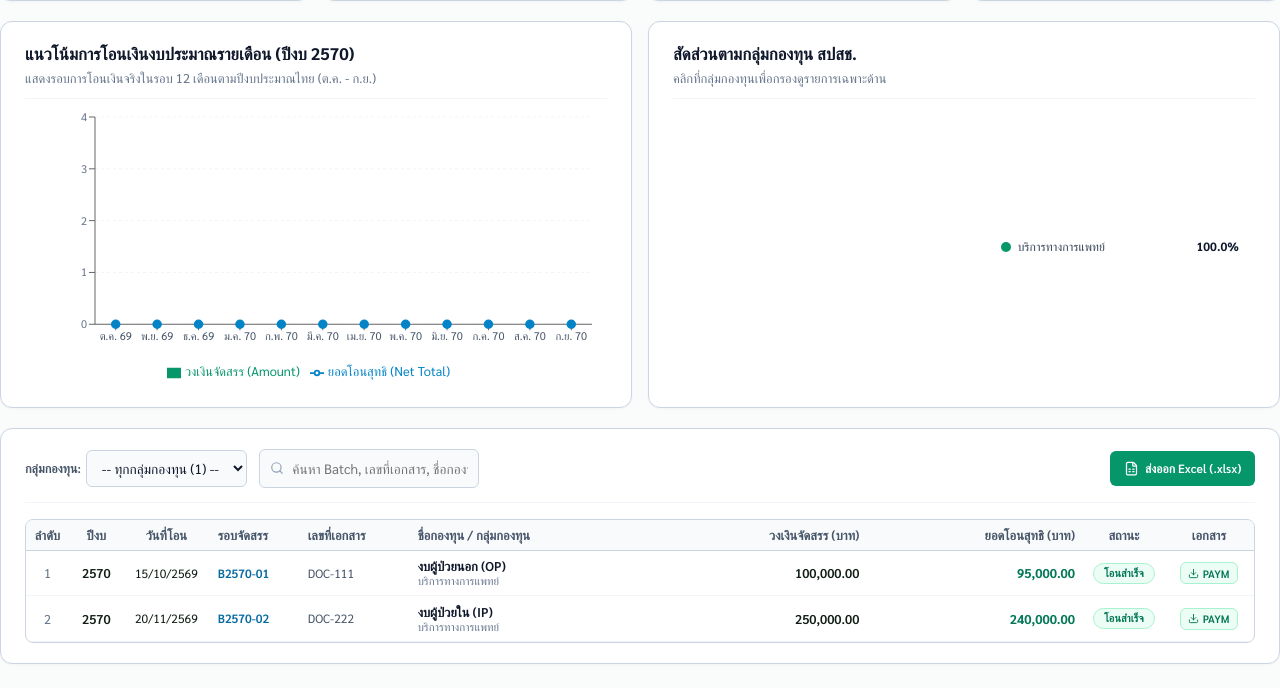
SmtBudgetTrackerClient Component › filters records using search text input
(page scrolled)
Type "DOC-111" into the field with placeholder "ค้นหา Batch, เลขที่เอกสาร, ชื่อกองทุน..." at [369, 468], box top-left (259, 449), bottom-right (479, 488)
(page scrolled)
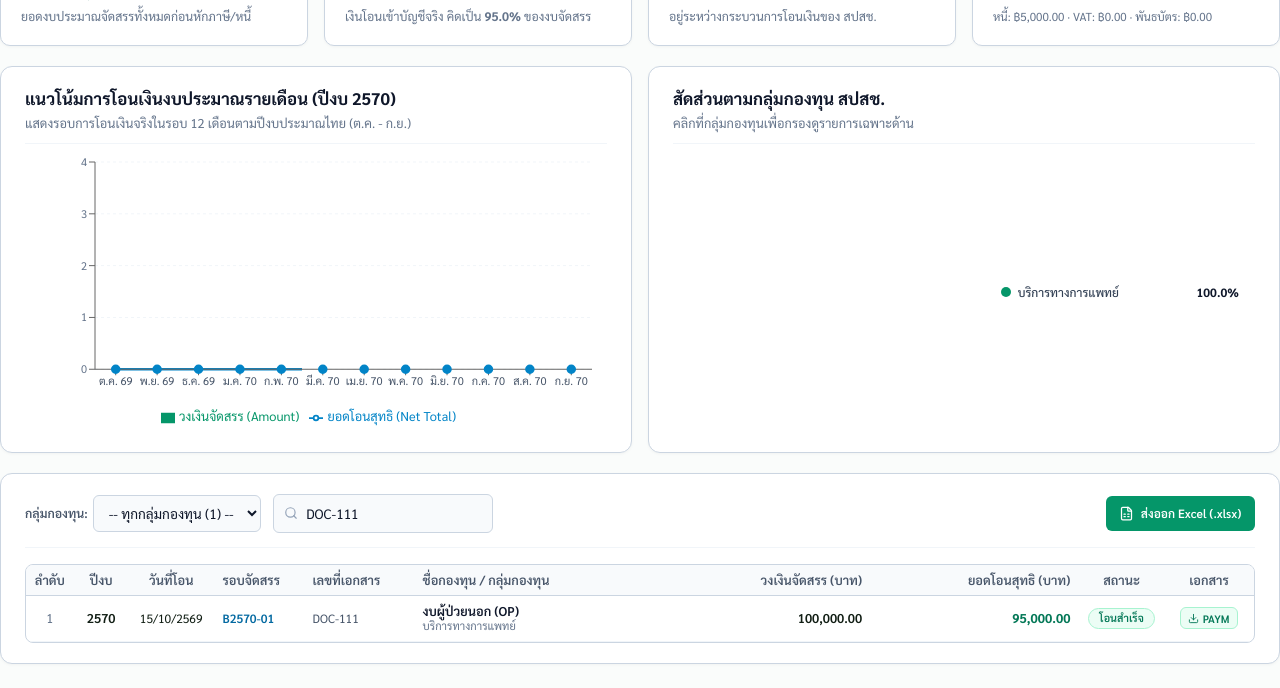
Check: the text "B2570-01" is shown, box top-left (214, 596), bottom-right (304, 642)
Check: the text "B2570-02" is gone
